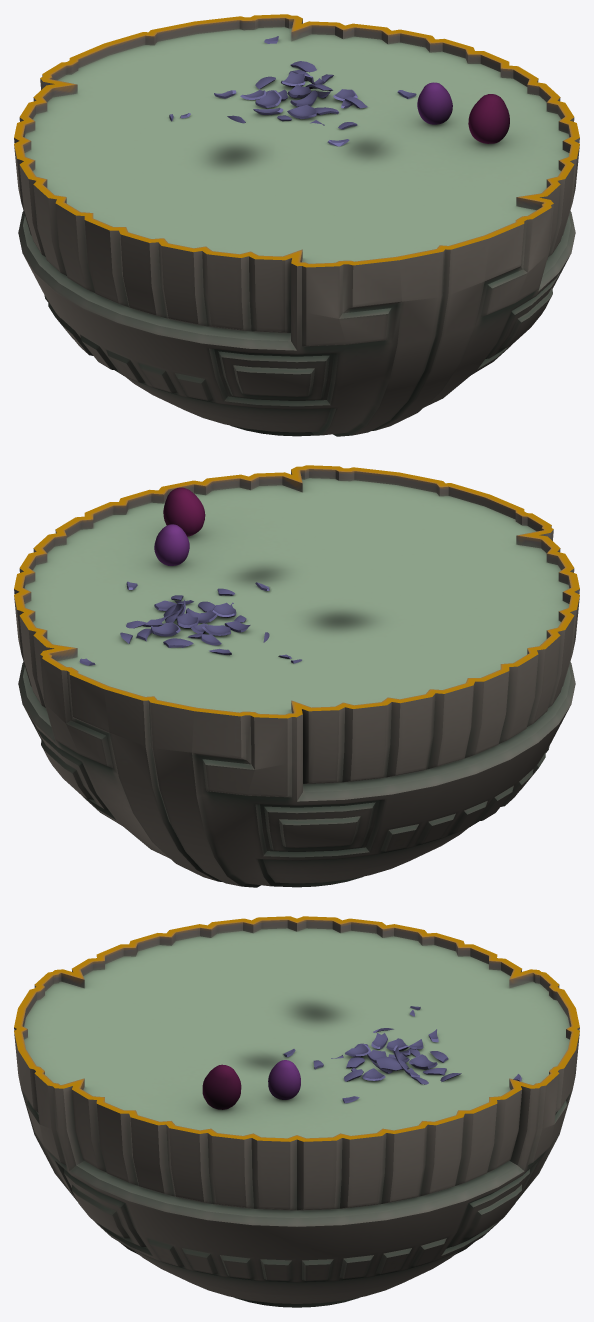
The model's file is platform.fbx.
3 views of the same model, one above another, from view 1: azimuth 30°, elevation 25°; view 2: azimuth 150°, elevation 25°; view 3: azimuth 270°, elevation 25° (orthographic). The views are drawn at different scales.
Parts seen in each view (by area): view 1: platform, crackedegg, egg2, egg1; view 2: platform, crackedegg, egg2, egg1; view 3: platform, crackedegg, egg2, egg1.
Part boxes in pixels (x1,y1,x2,y2): platform: (14,14,579,436); crackedegg: (169,36,416,146); egg2: (468,94,509,143); egg1: (417,82,452,124); platform: (14,465,579,887); crackedegg: (79,581,301,665); egg2: (163,487,205,536); egg1: (154,524,189,565); platform: (14,916,579,1307); crackedegg: (283,1006,521,1103); egg2: (202,1064,241,1109); egg1: (268,1060,300,1099).
Size of the model in its own units: 12 by 7.04 by 12.73.
4 materials, 4 textured.
